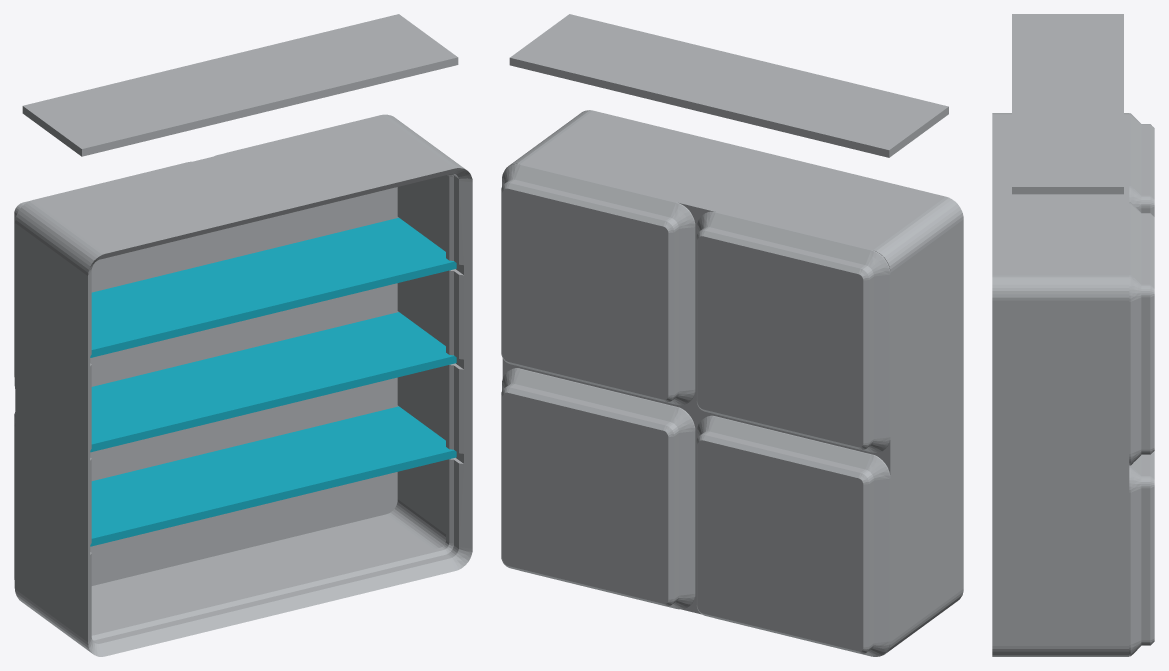
Rendered from slotted-2x2.glb.
3 renders of one model, left to right at view 1: azimuth 30°, elevation 25°; view 2: azimuth 150°, elevation 25°; view 3: azimuth 270°, elevation 25°, orthographic. The views are drawn at different scales.
Size of the model in its own units: 83.51 by 104 by 32.3.
